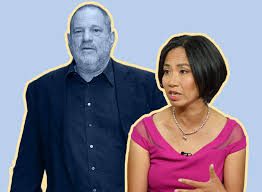asian_female: (159, 34, 226, 109)
